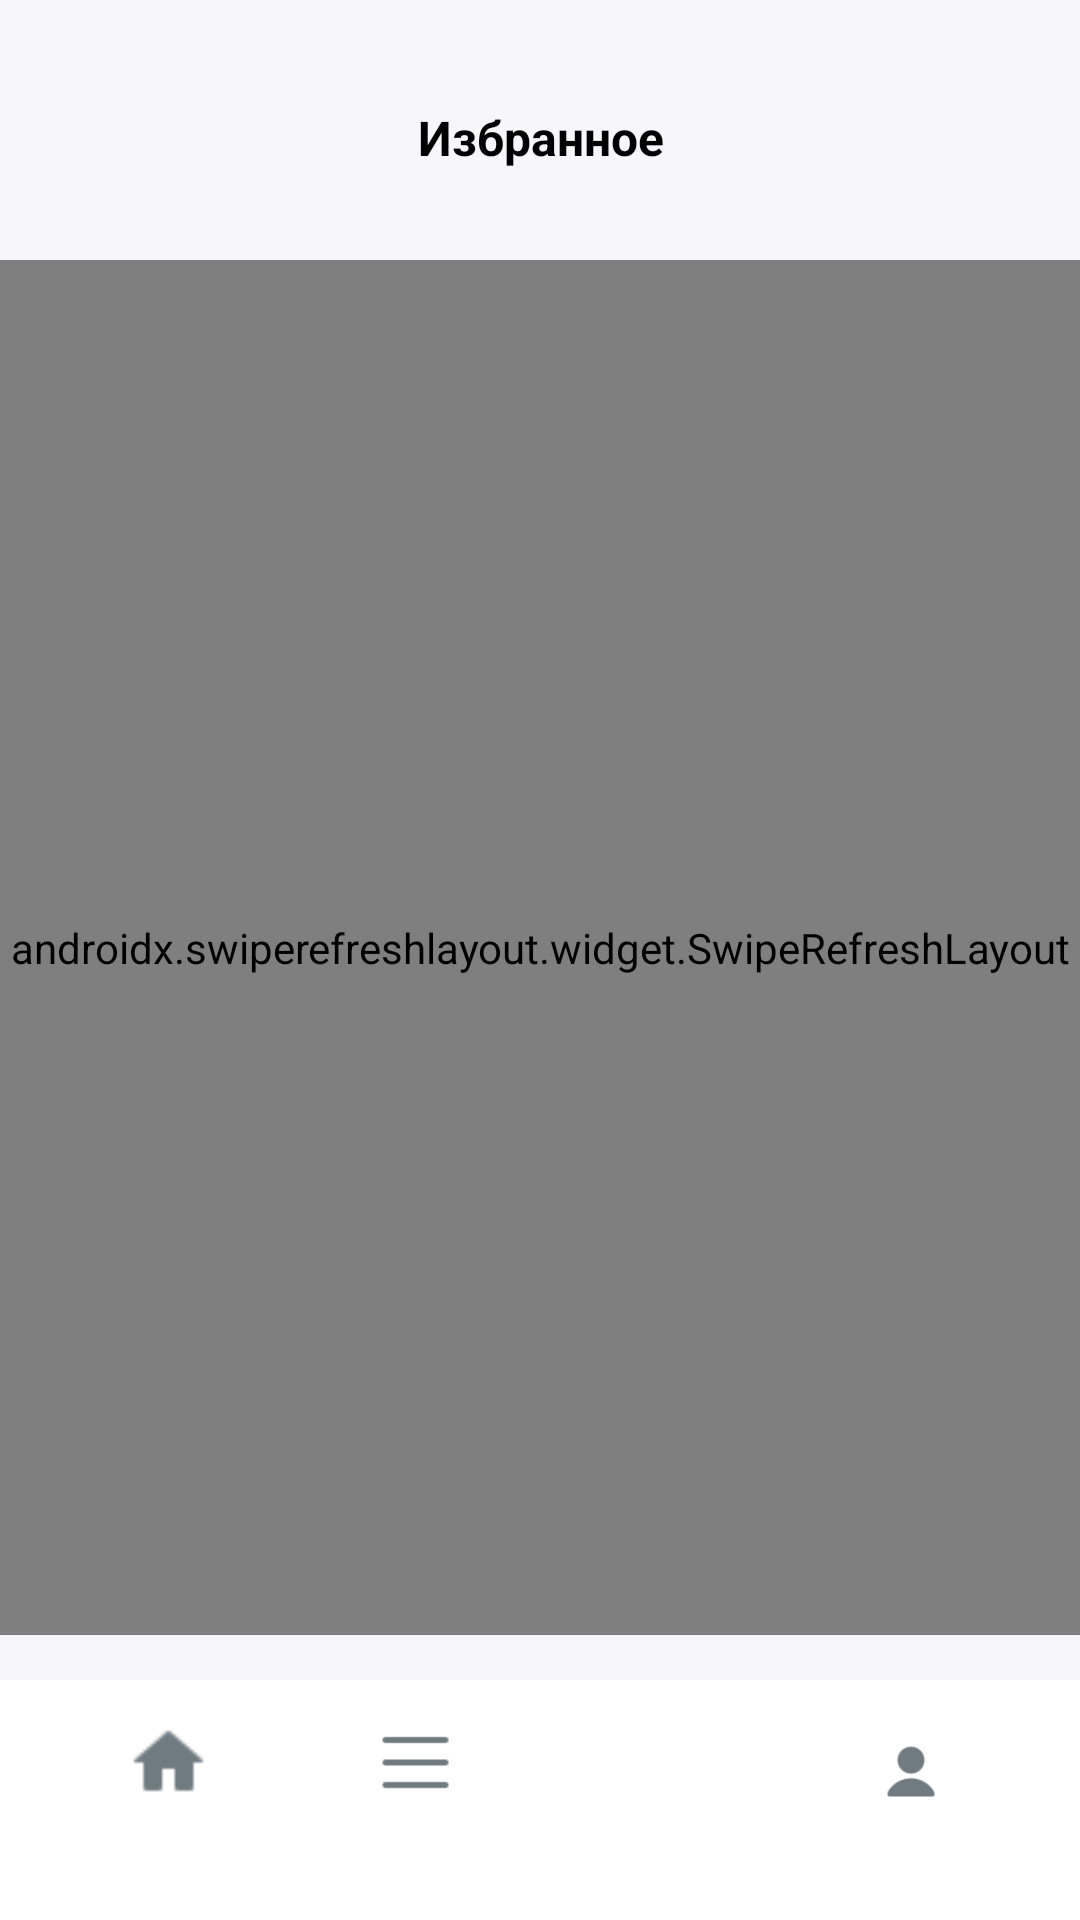

Icons on this 1080x1920 Android screen, each with its box as Rect(x1, y1, x2, y2):
home: Rect(133, 1730, 204, 1792)
menu: Rect(382, 1737, 449, 1788)
person: Rect(887, 1746, 935, 1797)
